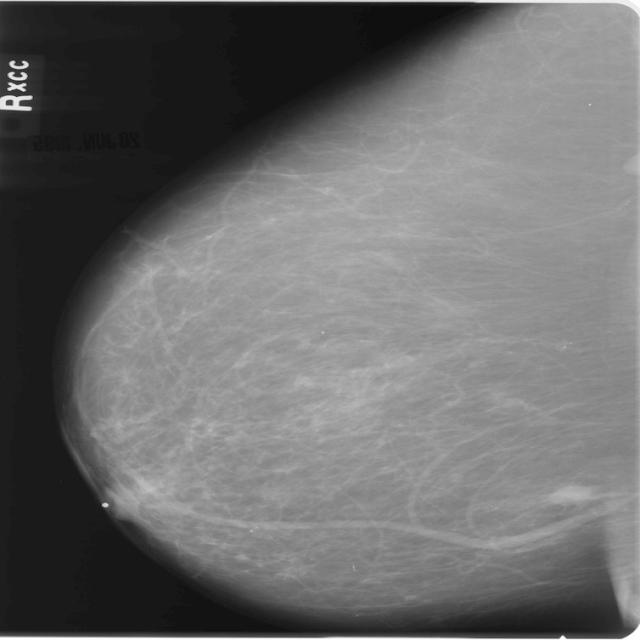tumour: (546, 483, 592, 505)
